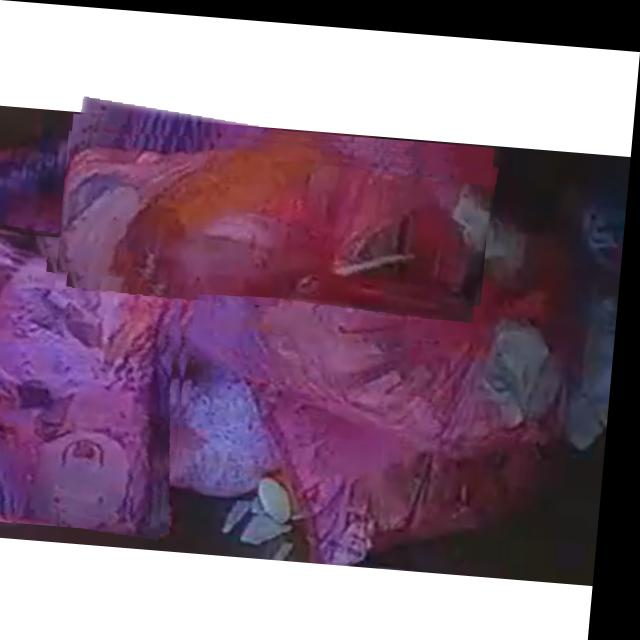other_trashbag: (63, 133, 477, 312), (0, 235, 190, 526)
